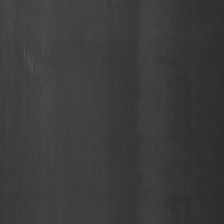silk_spot: (20, 40, 49, 83), (153, 49, 173, 90)
